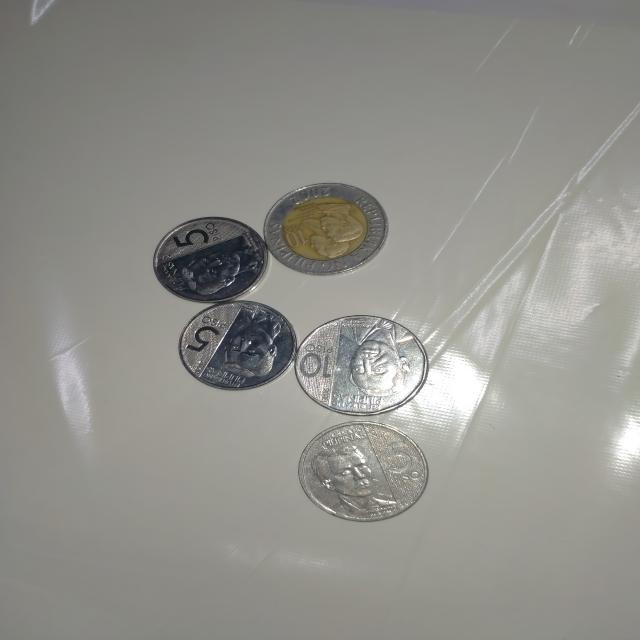10_New_Front: (296, 320, 412, 402)
10_Old_Front: (276, 183, 384, 274)
5_New_Front: (176, 310, 283, 378), (167, 221, 260, 296)
